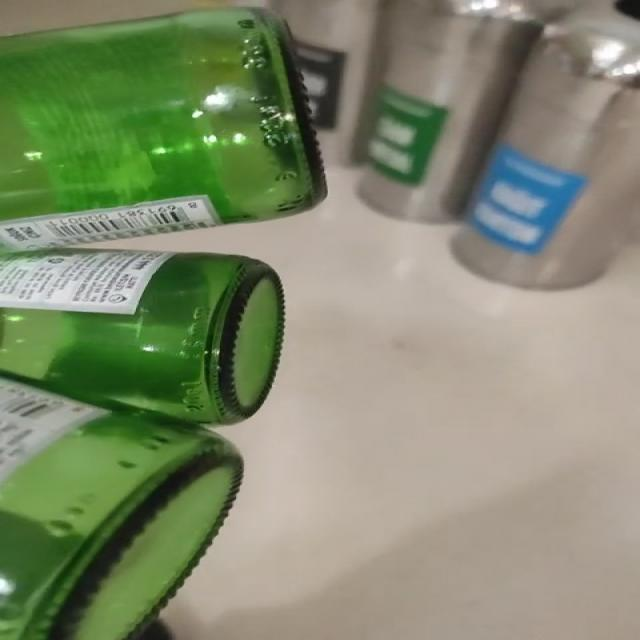glass: (1, 8, 324, 640)
